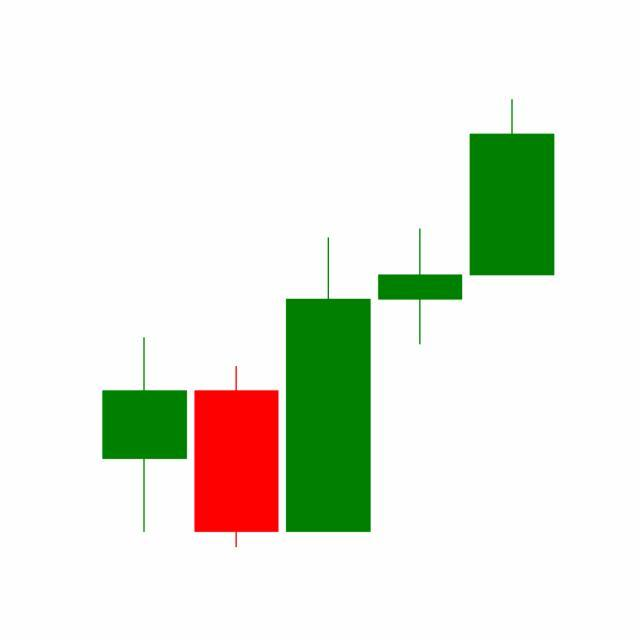Spinning Top: (374, 228, 468, 347)
